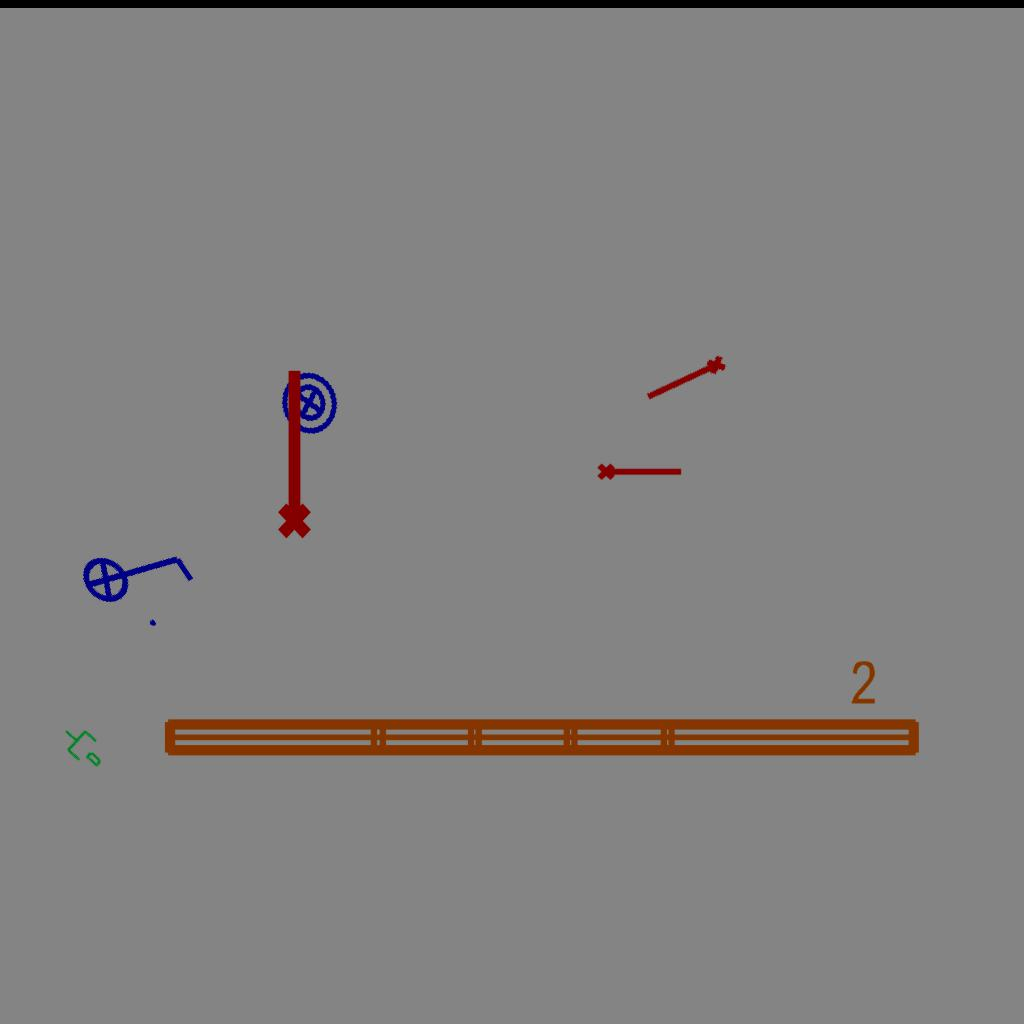ASR_Ansaugoeffnung: (269, 365, 315, 541), (641, 351, 731, 410), (596, 459, 684, 482)
Ambulanz_Pendelleuchte_LED: (154, 656, 928, 768)
Ausschalter_beleuchtet: (62, 498, 210, 646)
Datenanschluss_einfach: (54, 716, 114, 776)
Taster_beleuchtet: (269, 363, 349, 443)
